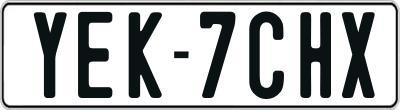7: (198, 11, 237, 99)
C: (249, 10, 290, 97)
E: (78, 9, 115, 98)
H: (299, 12, 330, 100)
K: (127, 9, 163, 101)
X: (340, 10, 379, 98)
Y: (31, 11, 68, 102)
